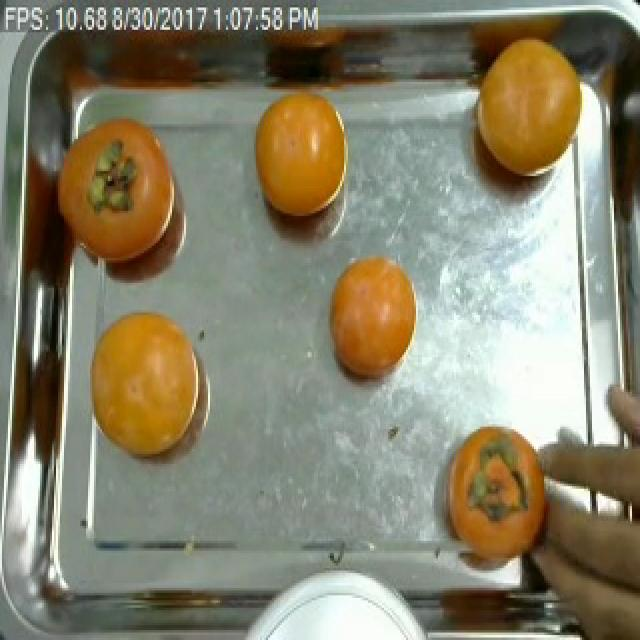Fruit: (46, 91, 202, 312), (80, 298, 214, 476), (428, 409, 556, 593), (460, 27, 586, 191), (242, 79, 358, 231), (318, 243, 424, 399)
